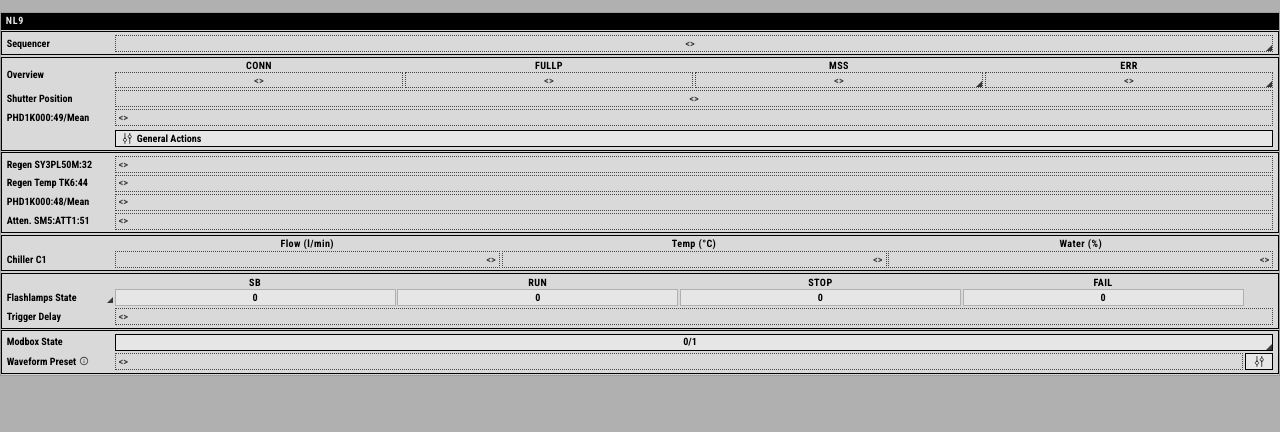
Test: the sequencer › lists the sequences the laser has
Click the button named "Toggle Sequencer detail": click(694, 43) x1=115 y1=35 x2=1273 y2=52
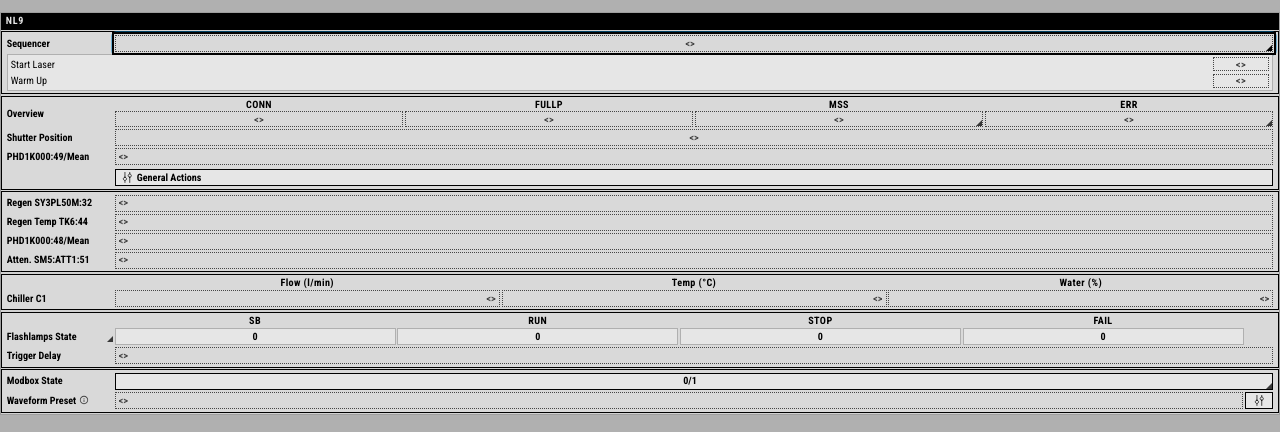
Expected: the number of list items is 2, x1=8 y1=56 x2=1272 y2=72; x1=8 y1=73 x2=1272 y2=88
